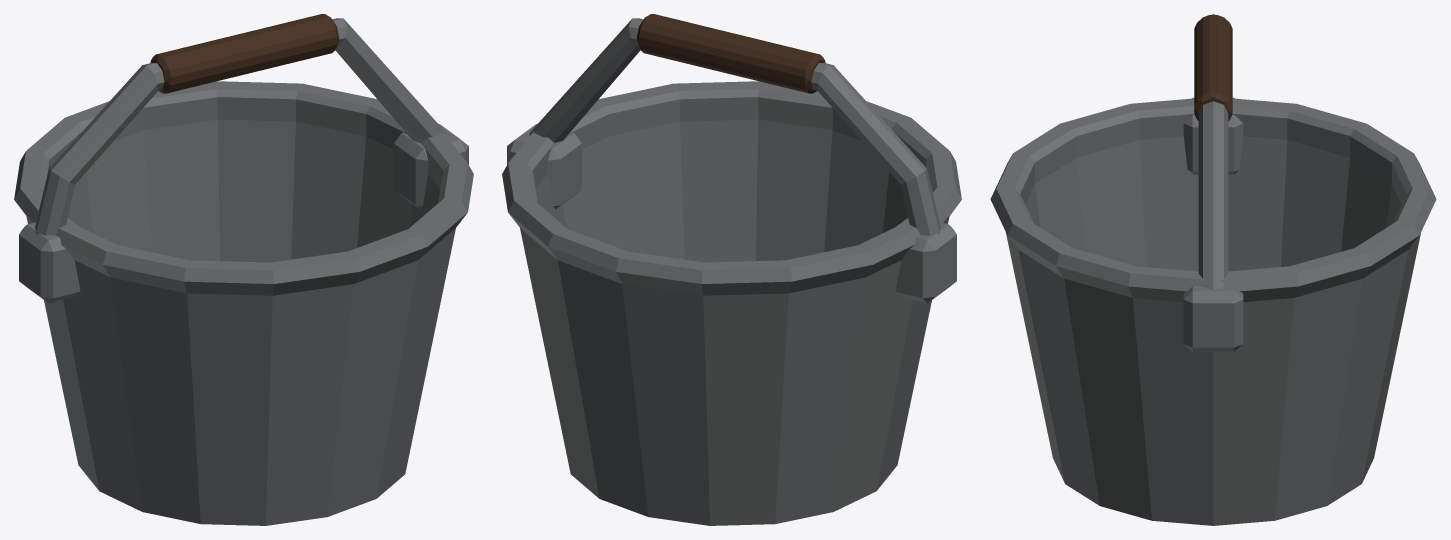
The model's file is zinc_bucket.glb.
3 renders of one model, left to right at view 1: azimuth 30°, elevation 25°; view 2: azimuth 150°, elevation 25°; view 3: azimuth 270°, elevation 25°, orthographic. The views are drawn at different scales.
Visible parts, largest first — view 1: zinc_bucket; view 2: zinc_bucket; view 3: zinc_bucket.
Part boxes in pixels (x1,y1,x2,y2): zinc_bucket: [14, 14, 473, 525]; zinc_bucket: [502, 14, 961, 525]; zinc_bucket: [990, 14, 1436, 525].
Size of the model in its own units: 0.32 by 0.2999 by 0.3.
